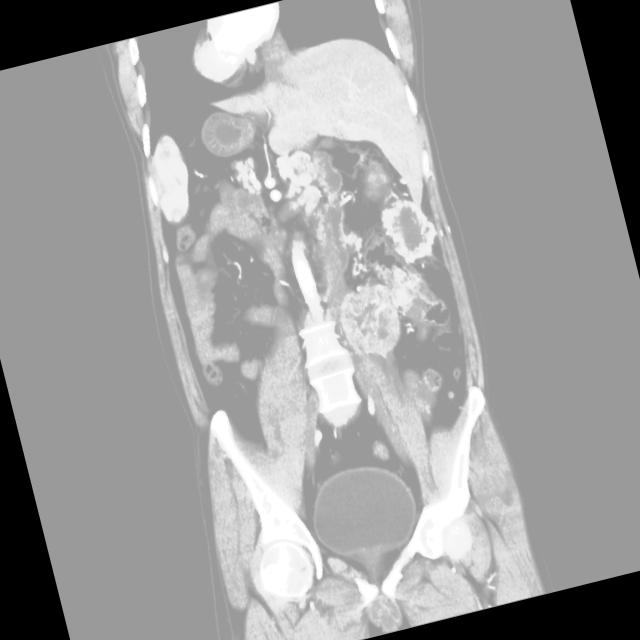TUMOR: (104, 134, 545, 450)
